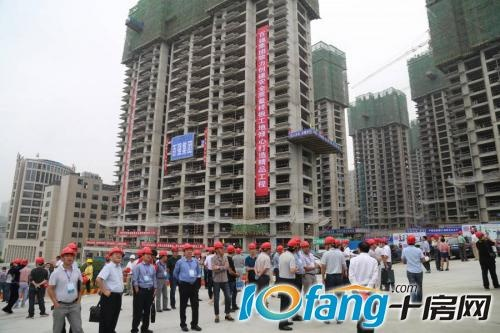none: (356, 240, 371, 254)
red: (60, 247, 75, 266), (109, 246, 124, 263), (181, 242, 194, 258), (323, 236, 336, 251), (141, 245, 152, 262), (213, 240, 225, 255), (286, 238, 298, 252), (260, 241, 272, 254), (246, 242, 257, 256), (474, 229, 486, 241), (405, 234, 416, 247), (300, 239, 310, 253), (366, 238, 377, 250), (158, 249, 169, 261), (34, 256, 45, 268), (226, 243, 236, 256), (379, 237, 388, 247), (170, 246, 179, 256), (275, 244, 283, 254), (193, 248, 201, 258), (20, 258, 28, 268)
white: (129, 254, 135, 261)
yellow: (85, 258, 93, 266)
